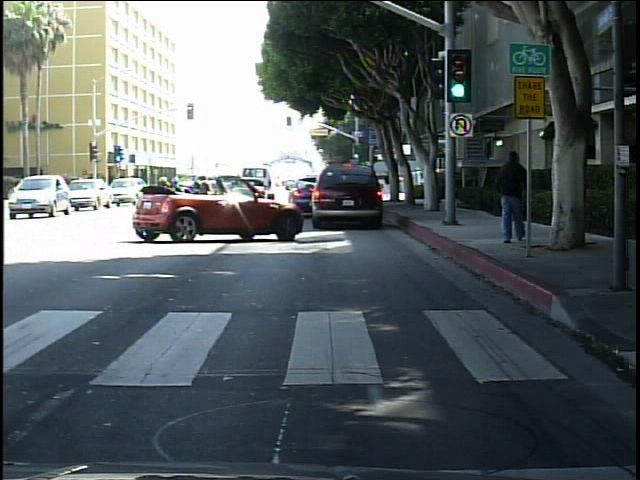person: (495, 139, 531, 242), (496, 148, 522, 228)
